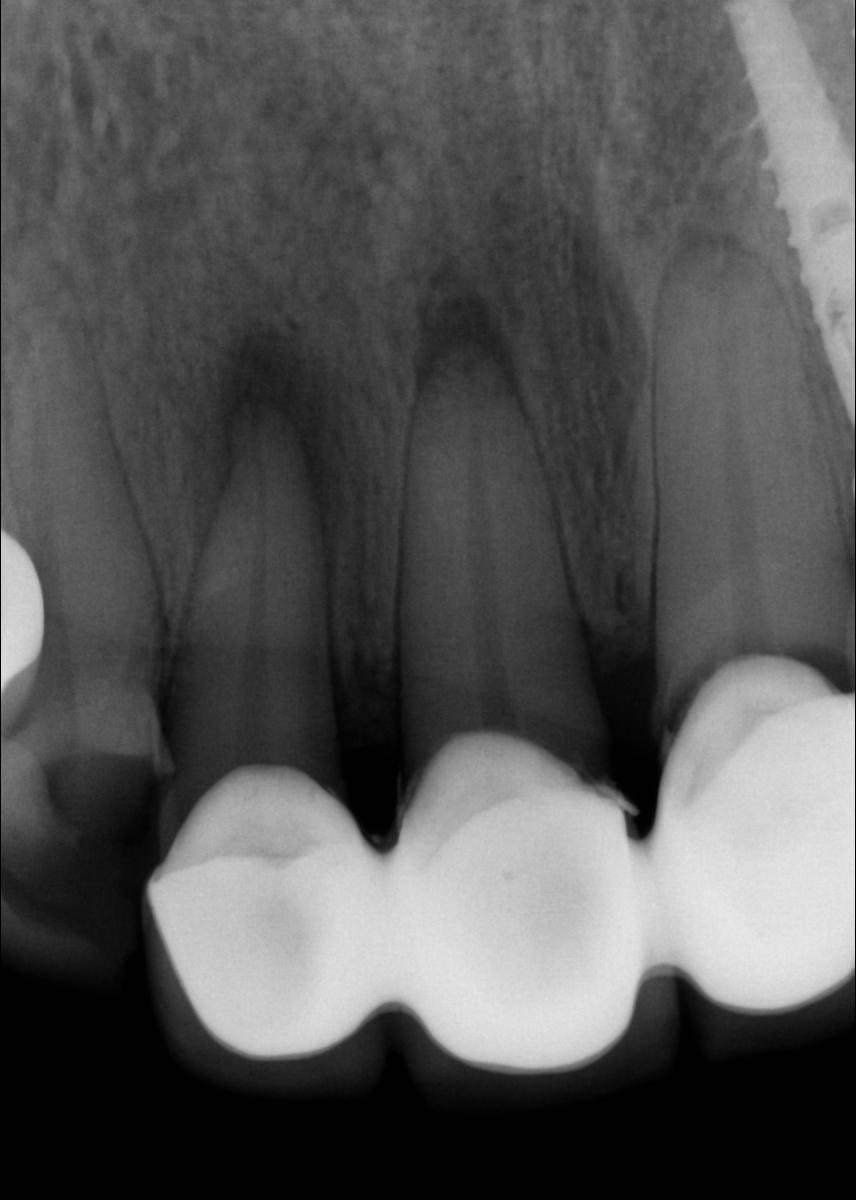Furcation Involvement: (210, 330, 340, 510), (416, 293, 529, 420), (668, 220, 763, 265)
